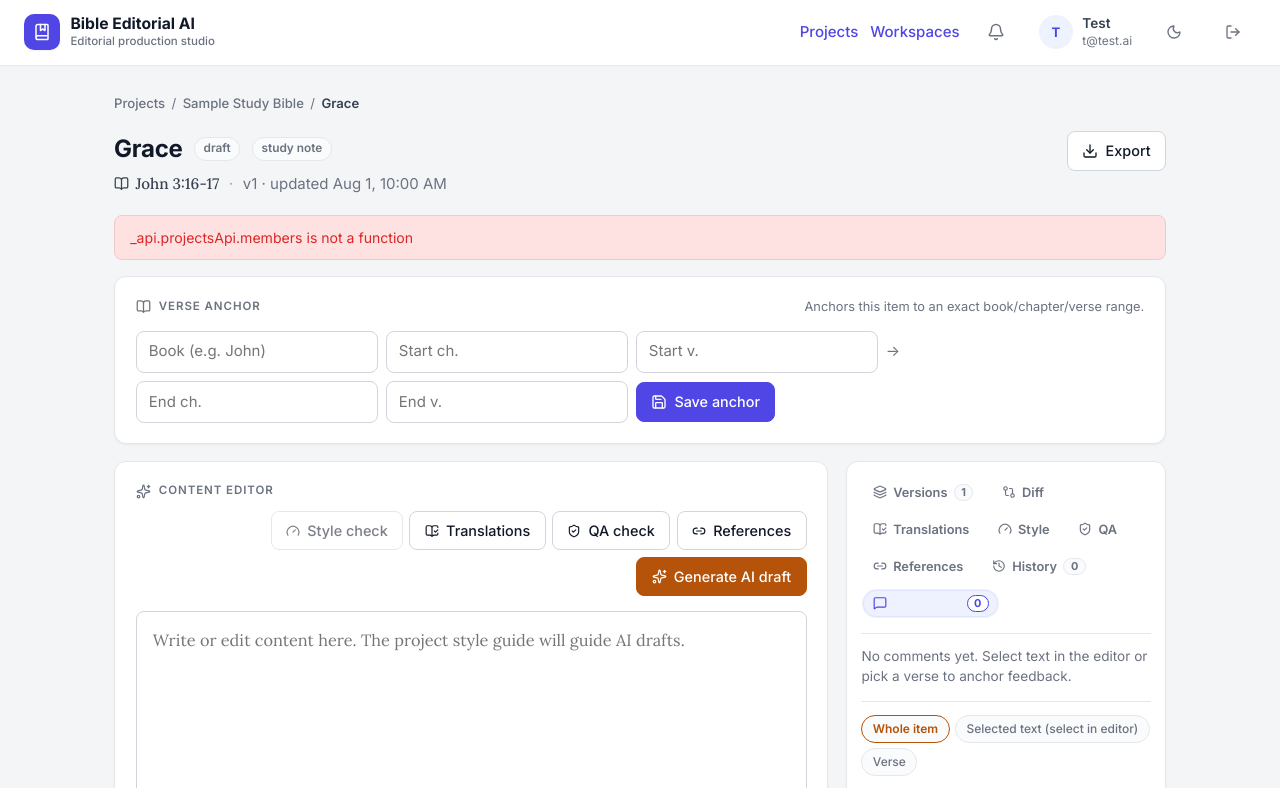
Test: Editor translation comparison sidebar › loads and renders the comparison when toggled on
Expected: the heading "Grace" is shown, [114,131,183,167]
Click the button "Translations" at (478, 531), box [410,511,546,550]
(page scrolled)
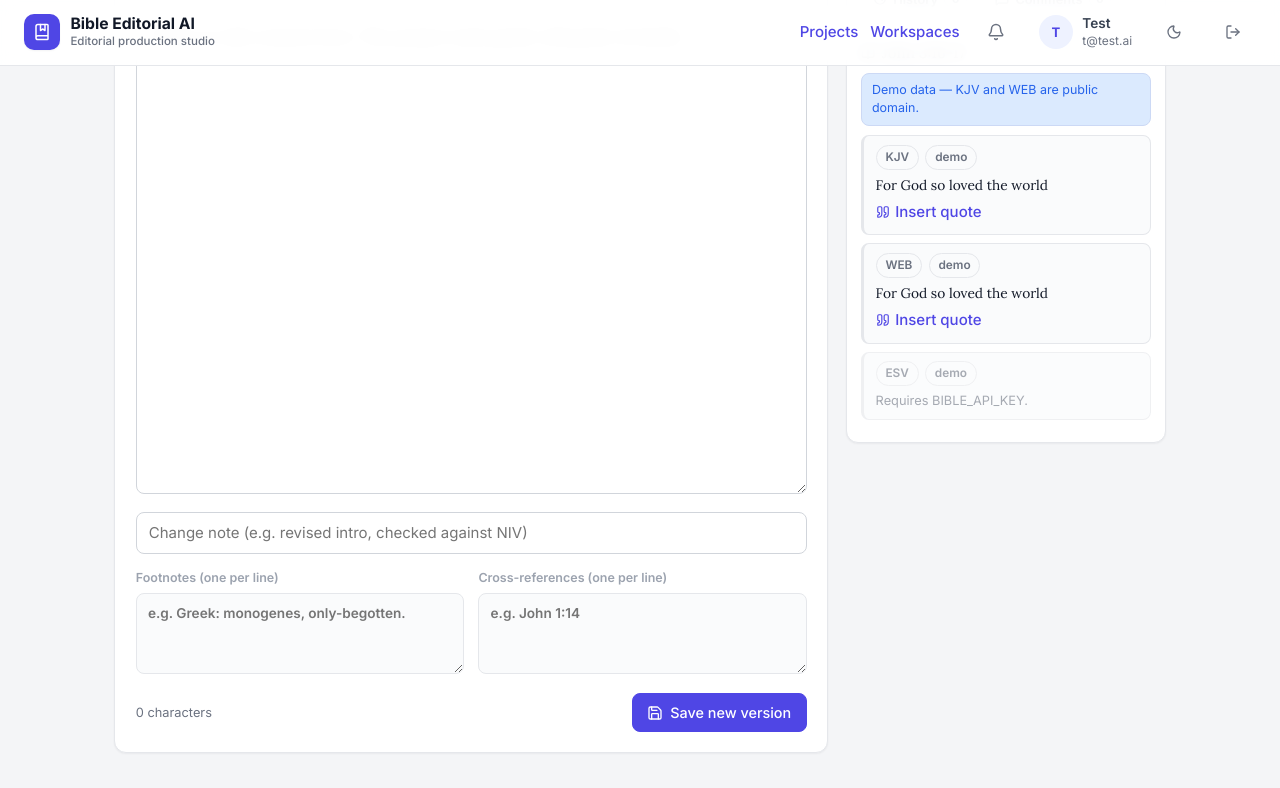
Expected: the text "John 3:16-17" is shown, [861,42,966,65]
Now the text "Demo data — KJV and WEB are public domain." is shown, box [861,73,1151,126]
Now the text "Requires BIBLE_API_KEY." is shown, box [876,393,1028,408]
